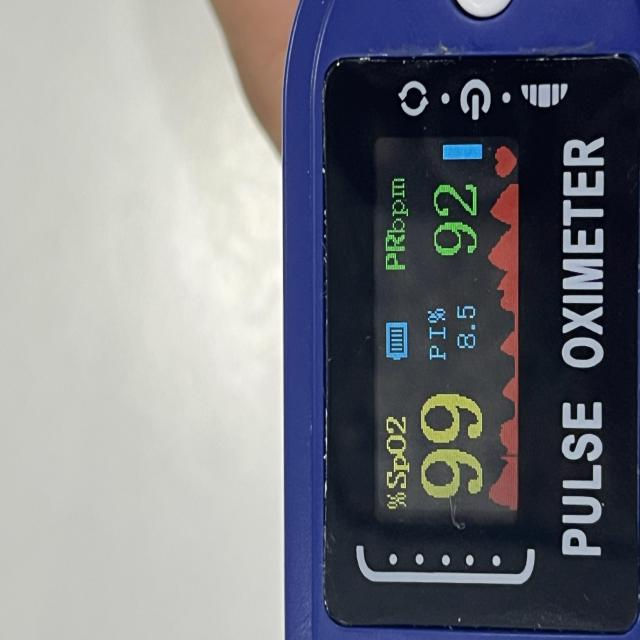spo2: (283, 0, 640, 640)
